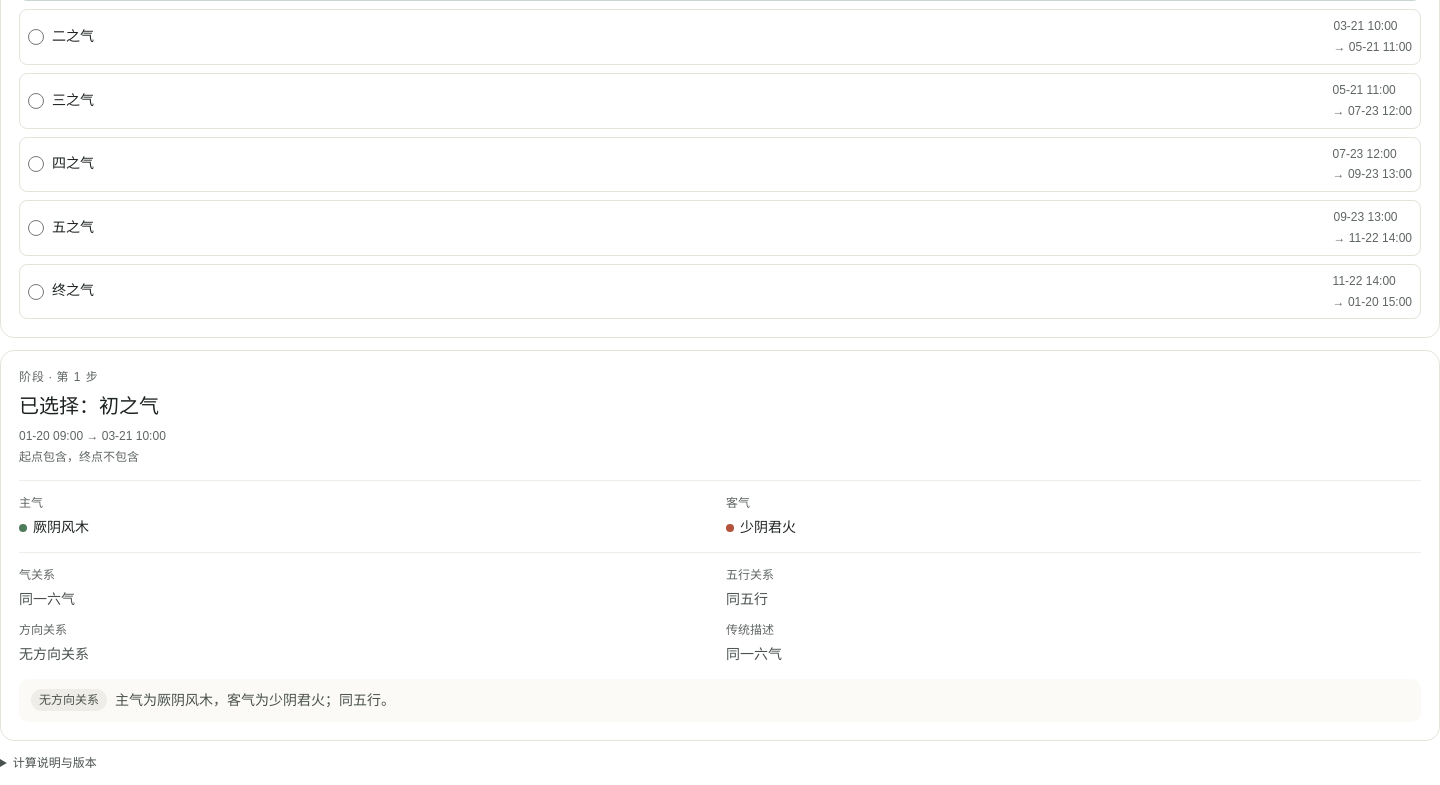
Test case: AnnualYunQiPage › reserves all complete year and stage boundaries for calculation details
(page scrolled)
Click the heading "计算说明与版本" at coordinates (55, 763), box [13,756,97,770]
(page scrolled)
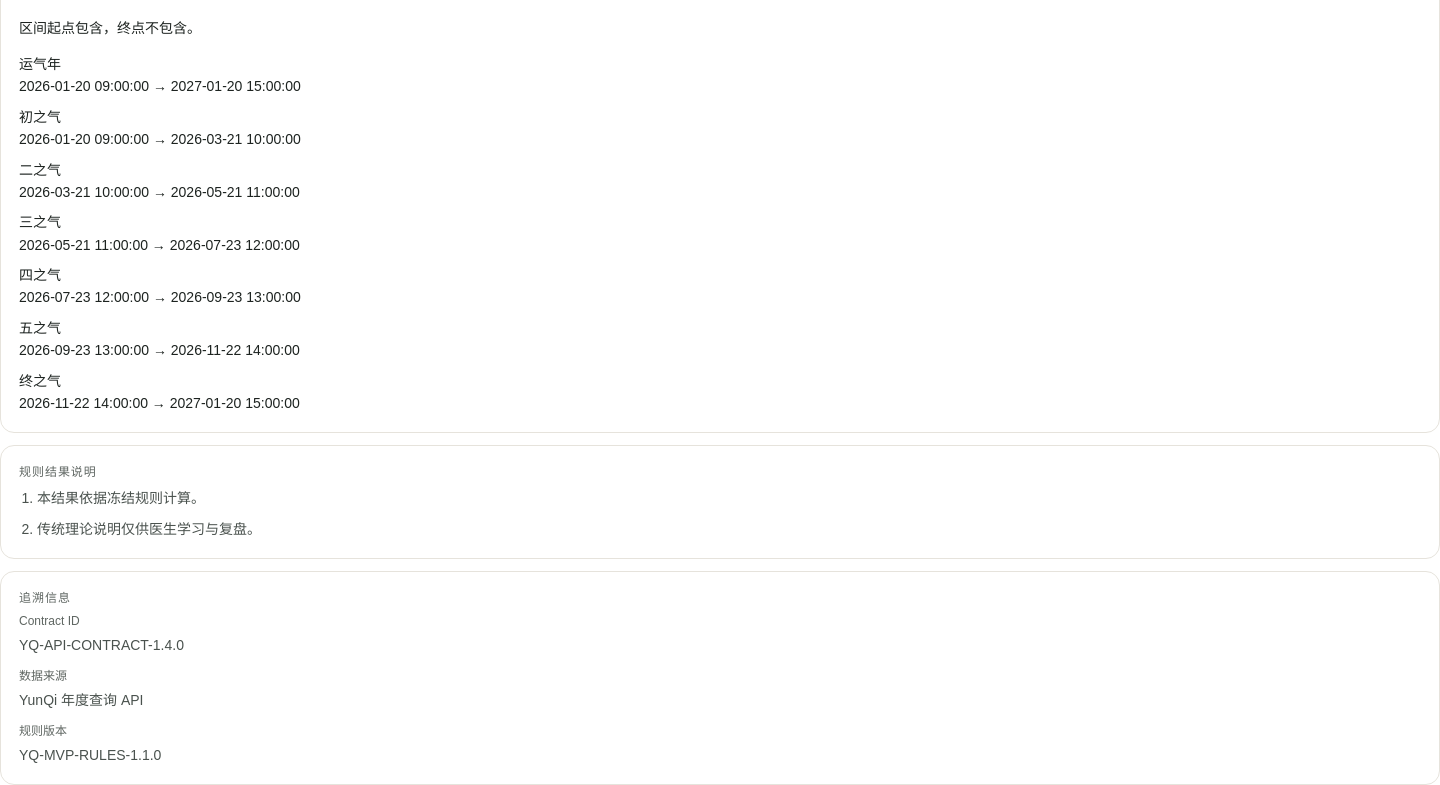
Check: the text "2026-01-20 09:00:00" below "运气年" is shown, box [19,75,149,98]
Check: the text "2027-01-20 15:00:00" below "运气年" is shown, box [171,75,301,98]
Check: the 2nd text "2026-01-20 09:00:00" is shown, box [19,128,149,150]
